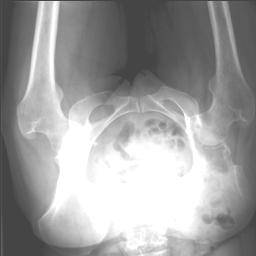cancer: (188, 115, 236, 170)
